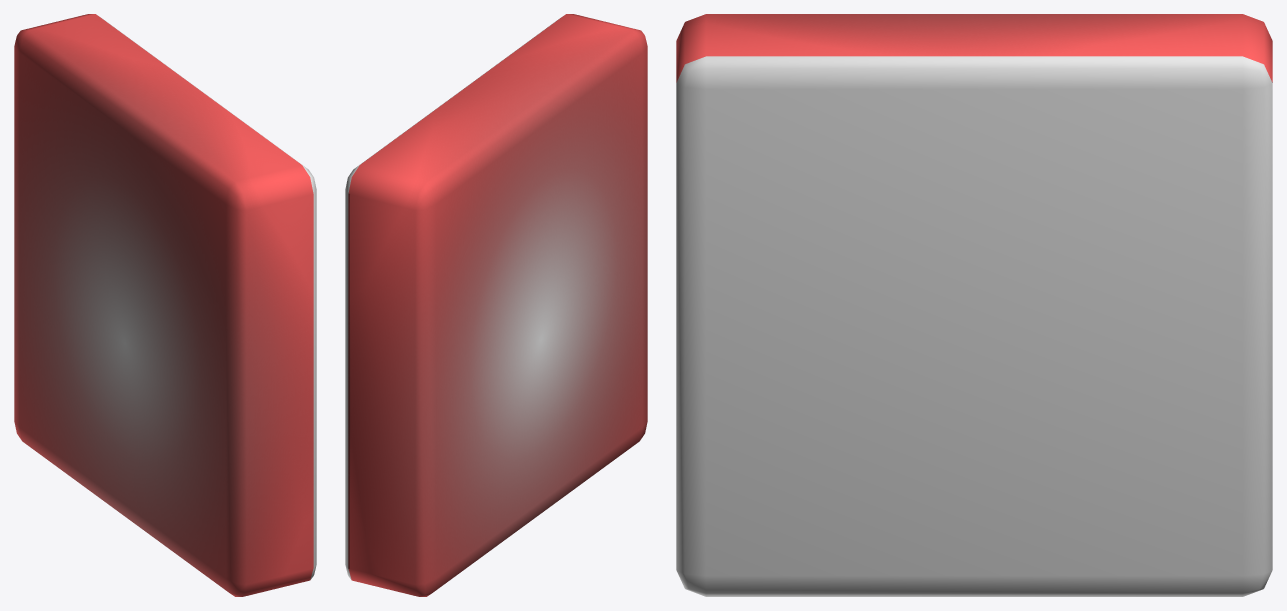
File: right_door_button_off.glb
3 views of the same model, side by side, from view 1: azimuth 30°, elevation 25°; view 2: azimuth 150°, elevation 25°; view 3: azimuth 270°, elevation 25° (orthographic). The views are drawn at different scales.
Parts seen in each view (by area): view 1: RightDoorButtonOff; view 2: RightDoorButtonOff; view 3: RightDoorButtonOff.
Boxes of the visible parts, x1,y1,x2,y2 form: RightDoorButtonOff: (14, 14, 316, 596); RightDoorButtonOff: (345, 14, 647, 596); RightDoorButtonOff: (676, 14, 1272, 596).
Size of the model in its own units: 0.0721 by 0.3354 by 0.3354.
2 materials, 1 textured.
